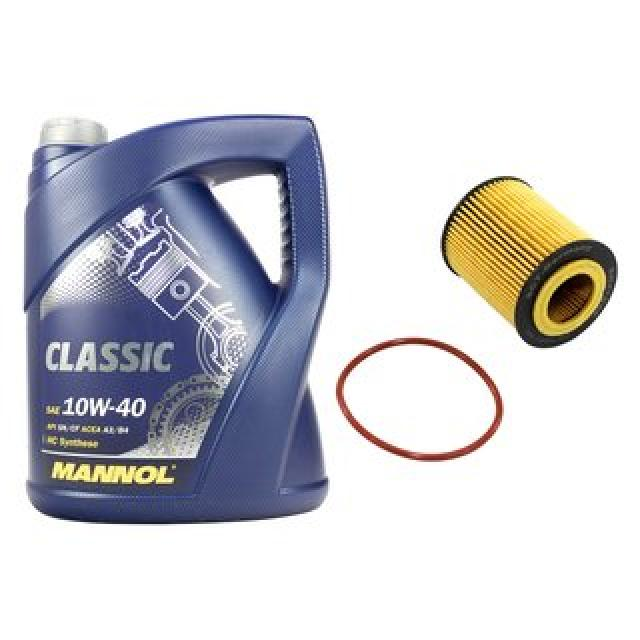motor_oil: (20, 106, 334, 528)
oil_filter: (432, 166, 624, 353)
